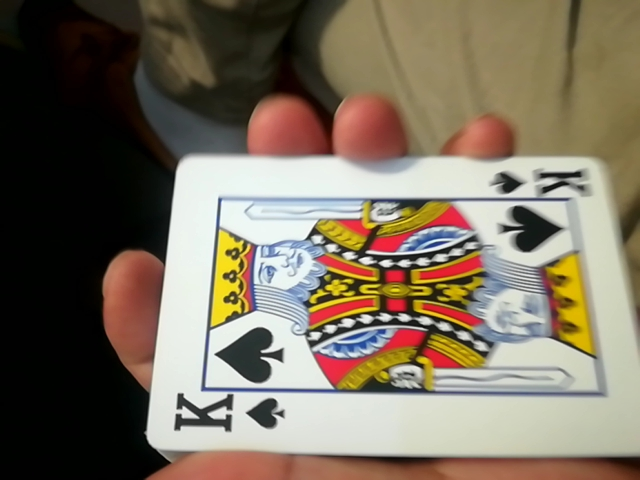ht k: (123, 142, 628, 471)
